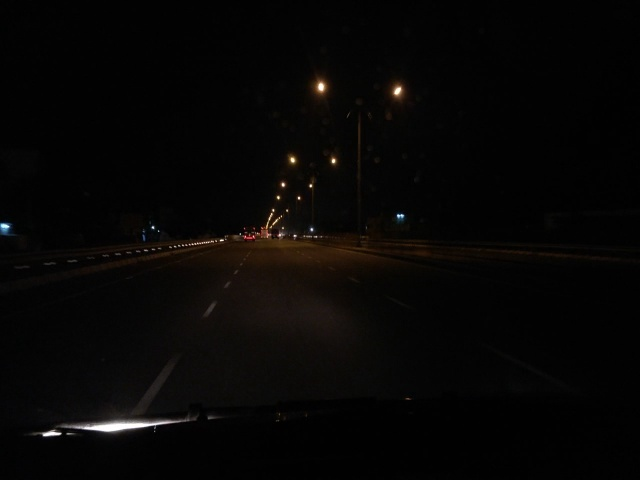bus: (243, 232, 260, 241)
truck: (270, 226, 283, 240)
